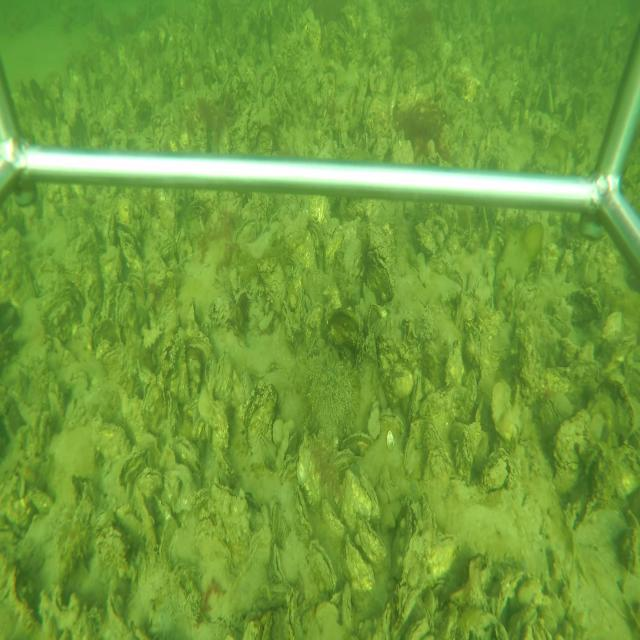Oyster-Closed: (392, 497, 420, 630), (210, 476, 251, 566), (344, 538, 376, 595), (342, 470, 379, 519), (366, 248, 395, 302), (358, 516, 388, 567), (307, 541, 337, 590), (118, 447, 148, 487), (294, 481, 312, 540), (381, 409, 406, 439), (408, 367, 422, 418), (339, 431, 373, 452), (285, 589, 298, 639), (342, 582, 355, 630)
Oyster-Indeterminate: (245, 383, 278, 449), (491, 378, 521, 442), (327, 307, 359, 348), (376, 337, 394, 402)
